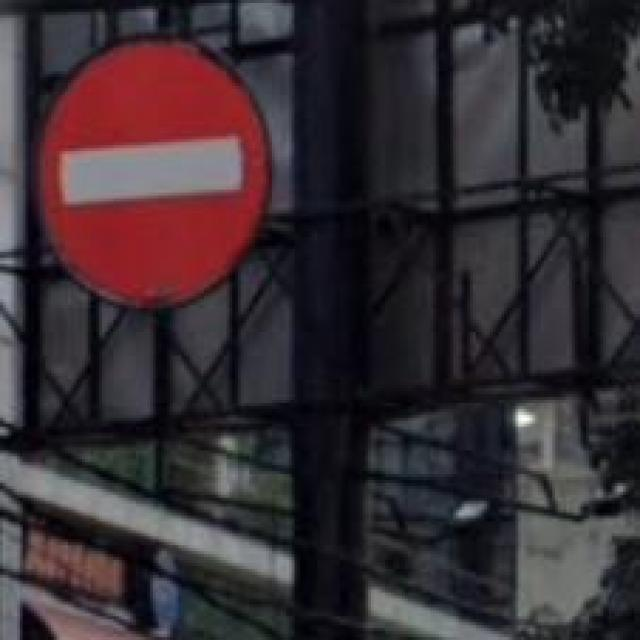traffic sign: (40, 48, 272, 303)
